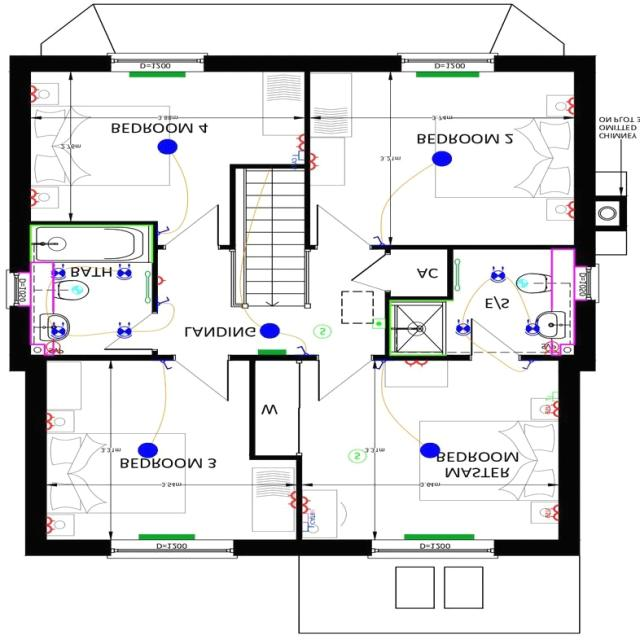Cat 6 Data Socket: (291, 152, 303, 170), (302, 514, 314, 532)
Ceiling Mounted Continuous Extract FanWith Boost Mode Activated By Light Switch: (70, 286, 82, 296), (516, 280, 527, 288)
Co-Ax TV Socket: (302, 509, 314, 524)
Double Socket: (564, 202, 574, 219), (564, 98, 574, 115), (286, 492, 296, 509), (302, 496, 311, 514), (30, 190, 39, 207), (30, 86, 39, 102), (46, 413, 54, 431), (404, 362, 427, 368), (296, 135, 304, 152), (46, 517, 54, 534), (310, 155, 318, 171)
Full Height Tiling: (29, 225, 152, 262), (389, 300, 450, 356)
Light Switch: (157, 297, 169, 307), (159, 362, 171, 371), (373, 236, 383, 246), (296, 347, 307, 356), (157, 228, 169, 236), (522, 362, 532, 371), (376, 362, 386, 370)
Low Energy Downlighter: (453, 319, 470, 336), (115, 322, 131, 339), (489, 267, 505, 283), (524, 320, 539, 337), (116, 264, 131, 281), (50, 264, 65, 281), (51, 322, 65, 339)
Low Energy Pendant Light: (419, 443, 440, 460), (157, 140, 177, 156), (136, 444, 158, 458), (432, 152, 451, 168), (259, 325, 278, 339)
Mains Wired Smoke Detector: (312, 326, 330, 340), (348, 451, 366, 464)
Programmable Room Thermostat: (372, 320, 384, 330)
Radiator: (404, 535, 474, 540), (415, 73, 478, 78), (137, 536, 194, 541), (129, 72, 184, 77), (256, 349, 285, 356)
Shaver Socket: (544, 338, 558, 357), (46, 338, 59, 356)
Single Socket: (156, 278, 164, 286)
Telephone Socket: (544, 393, 557, 404)
USB Double Socket: (543, 505, 558, 522), (544, 402, 558, 418)
